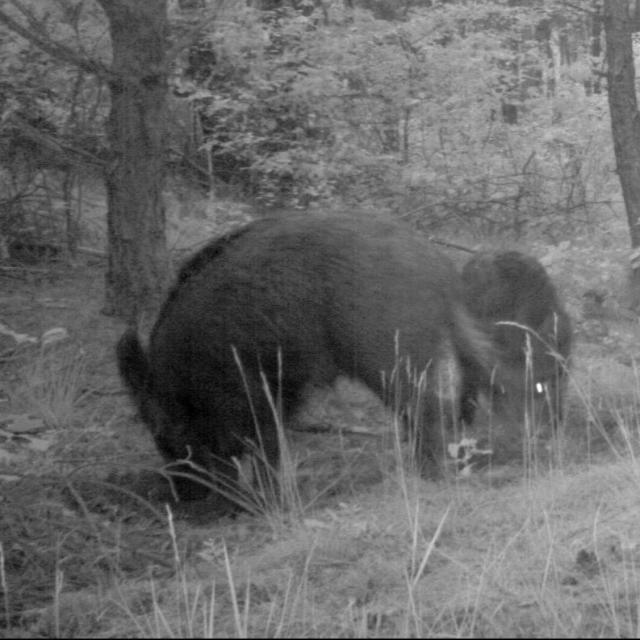pig: (100, 195, 488, 558)
